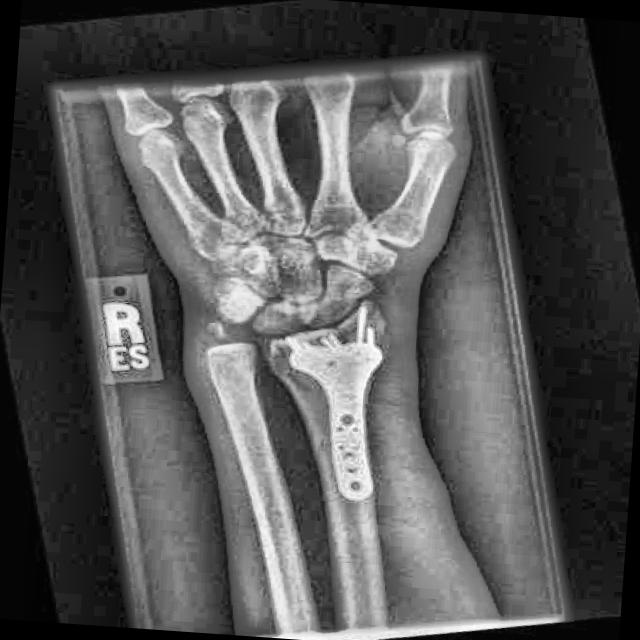fingers positive: (252, 331, 350, 408), (319, 284, 414, 354)
